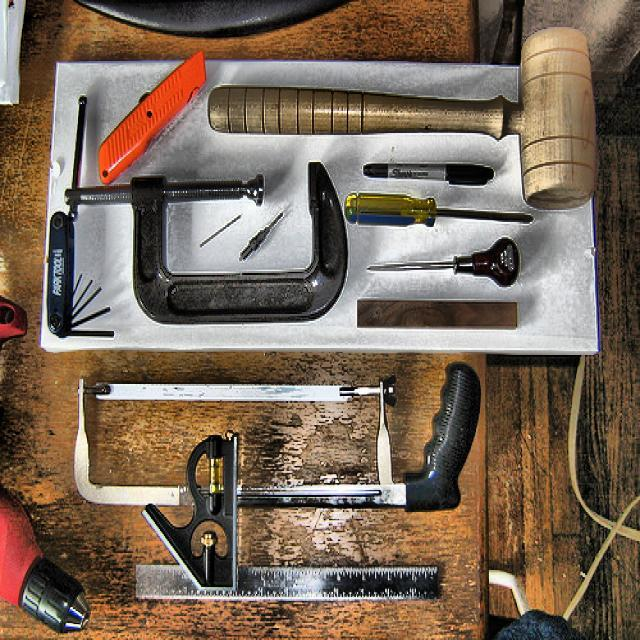screwdriver: (345, 192, 533, 228)
